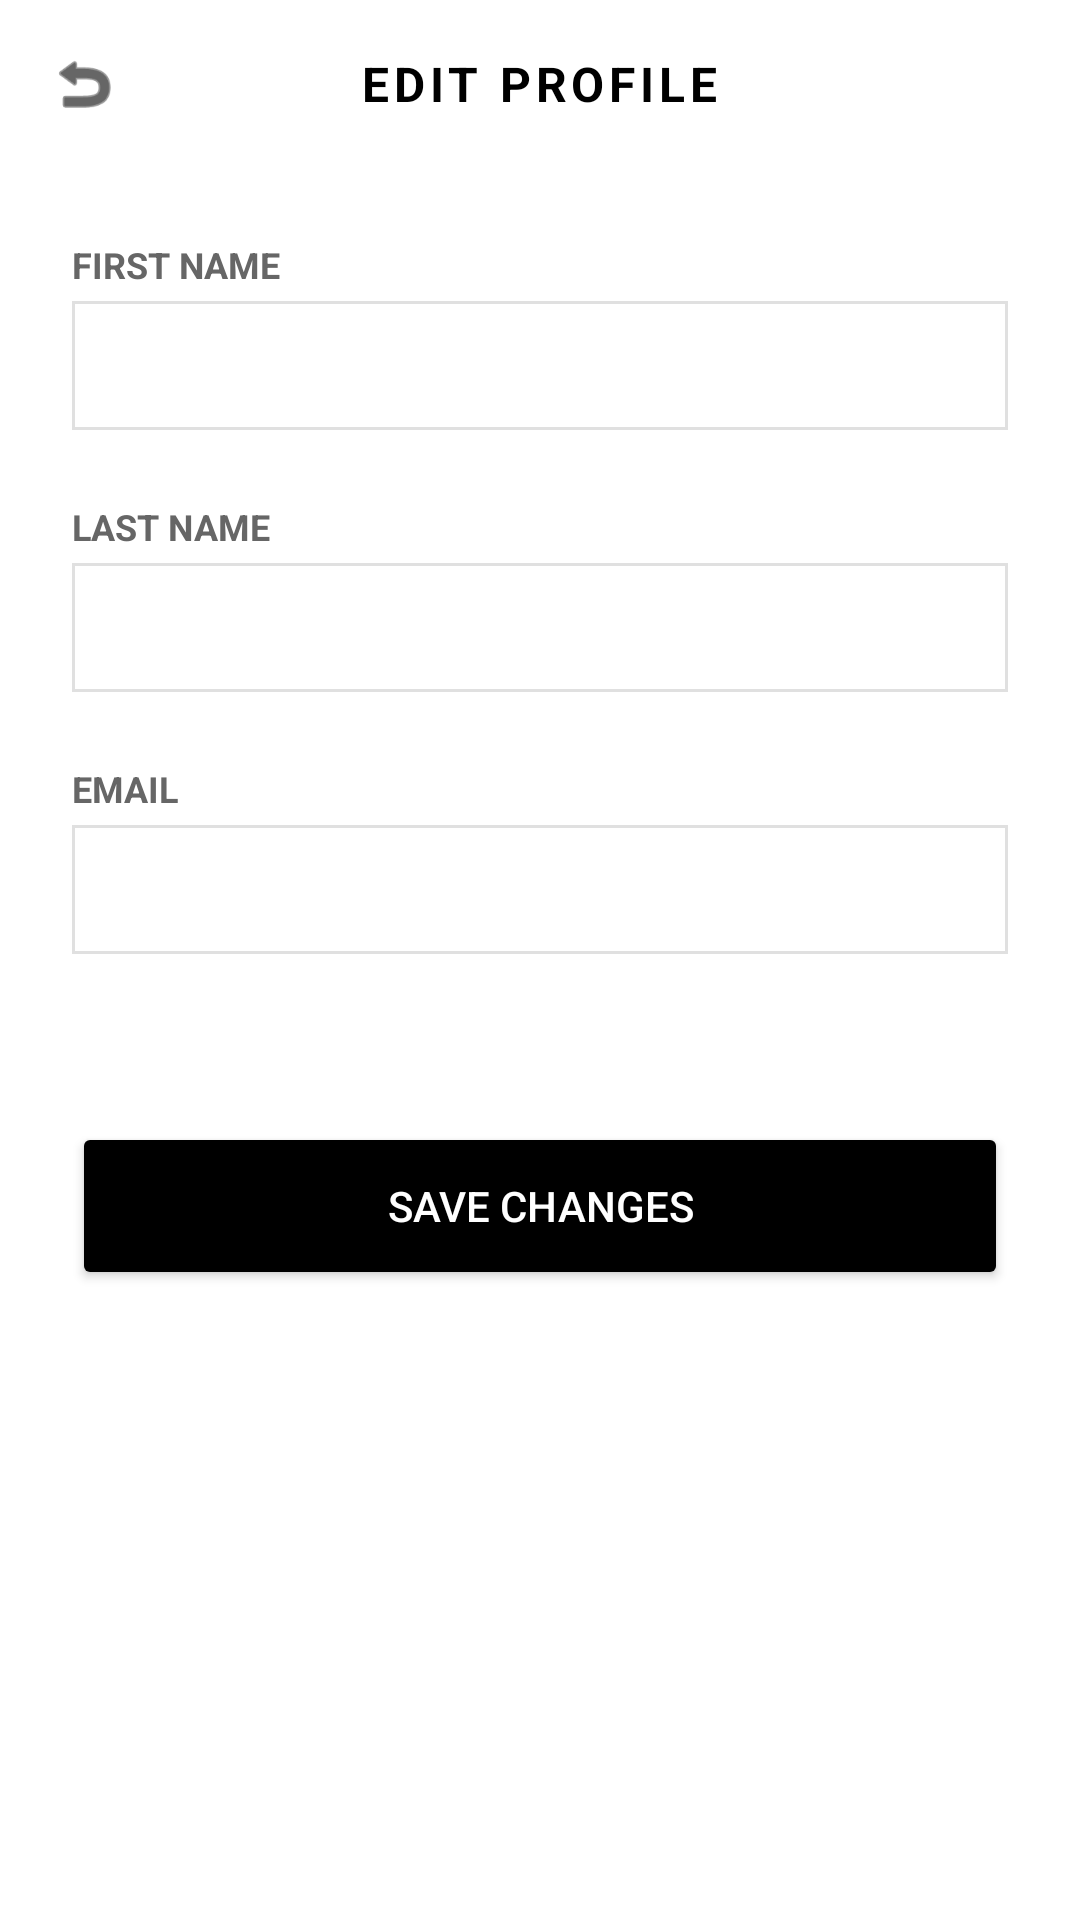

Where to tap for icons on this 1080×1920 app screen, as (x=x, y=y):
revert: (x=85, y=84)
